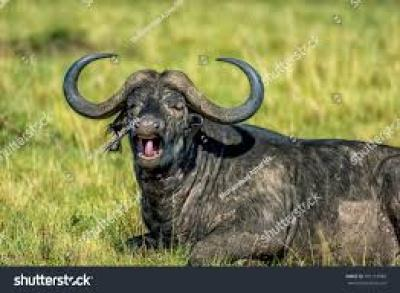buffalo: (63, 53, 399, 265)
